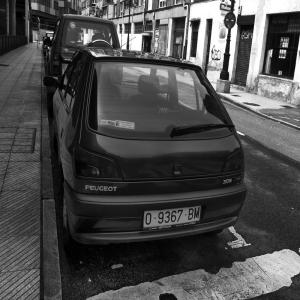Vehicle-registration-plate: (144, 208, 202, 229)
